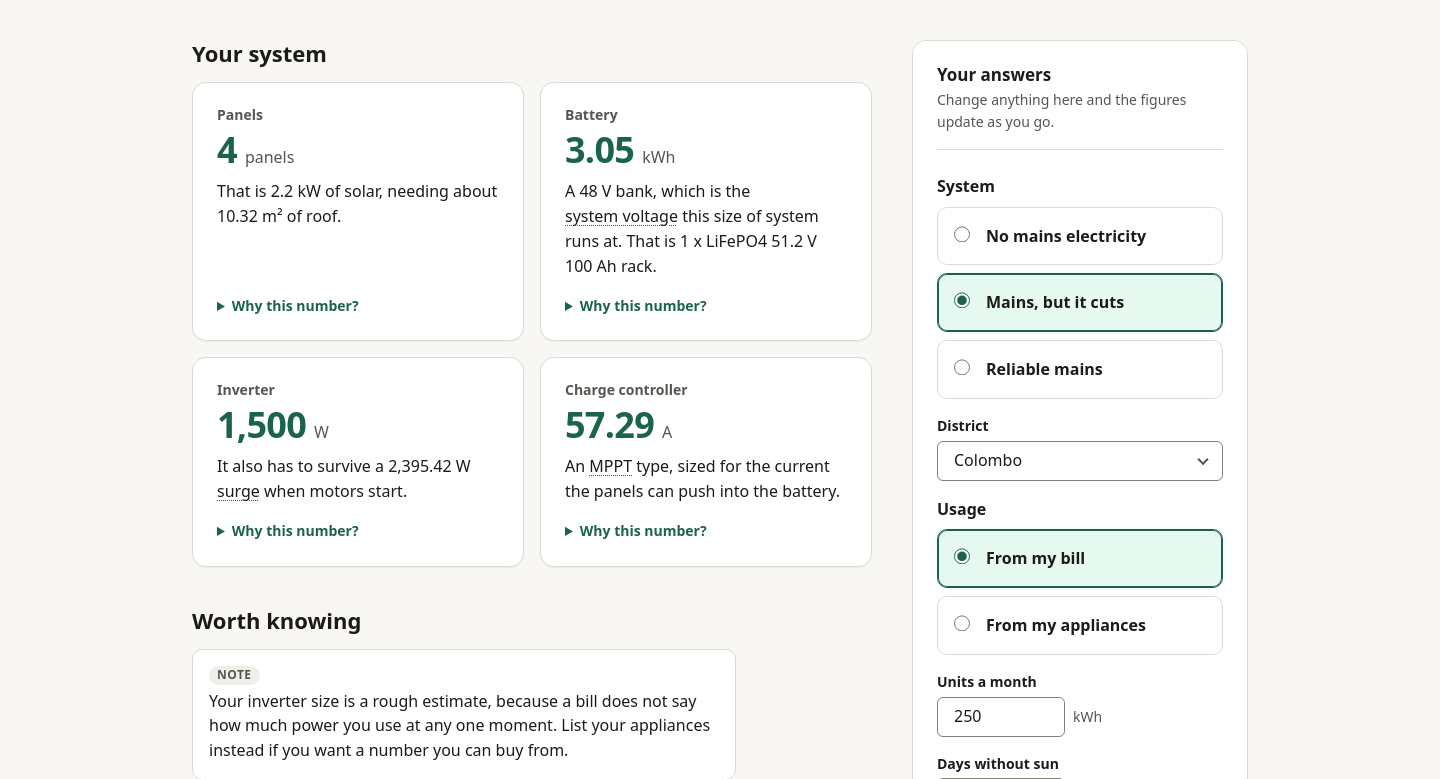
it: the live sidebar › drops the battery card when the system type changes to grid-tied
expect the heading "Battery" is shown: met, box [565,105,618,124]
Click the radio button labelled "Reliable mains" at coordinates (962, 368), box [954,360,970,376]
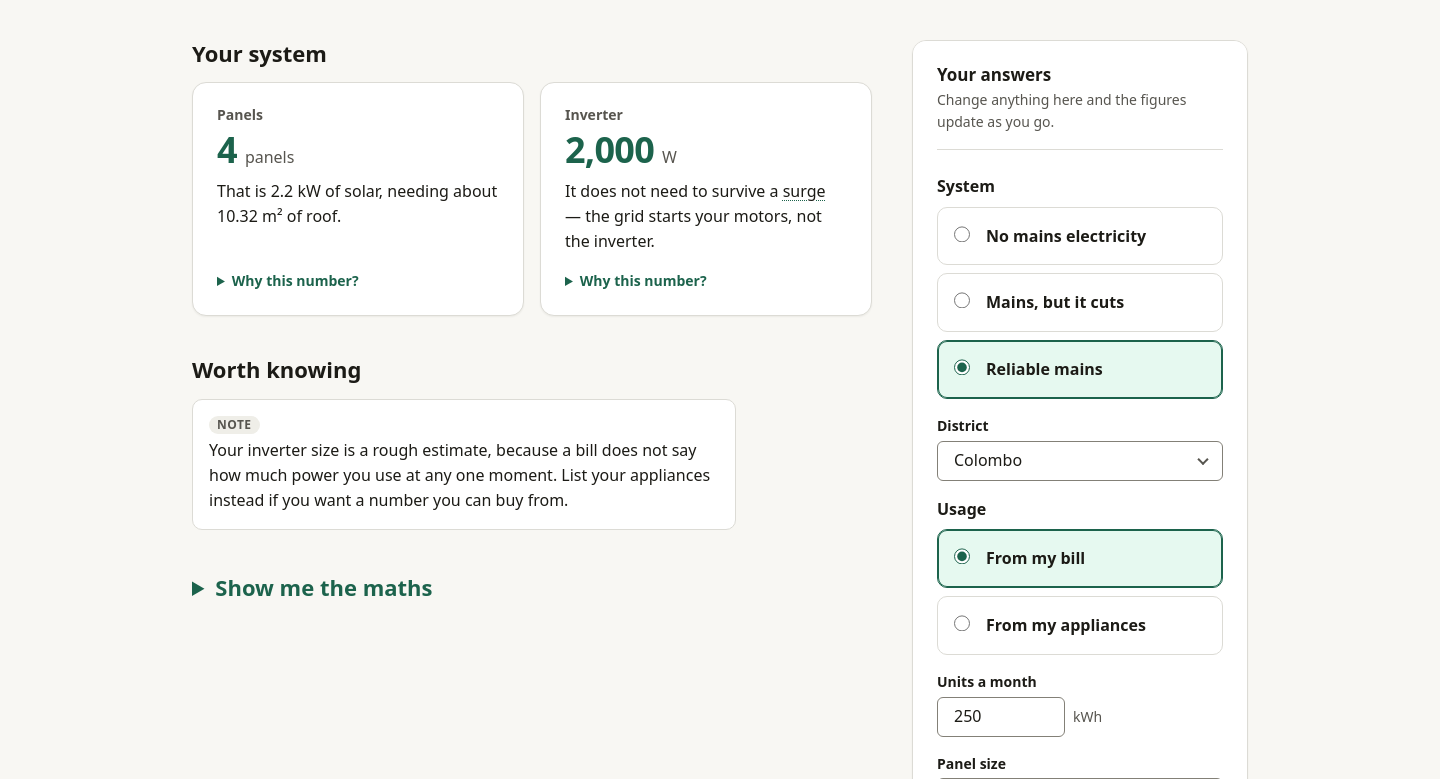
expect the heading "Battery" is gone: met
